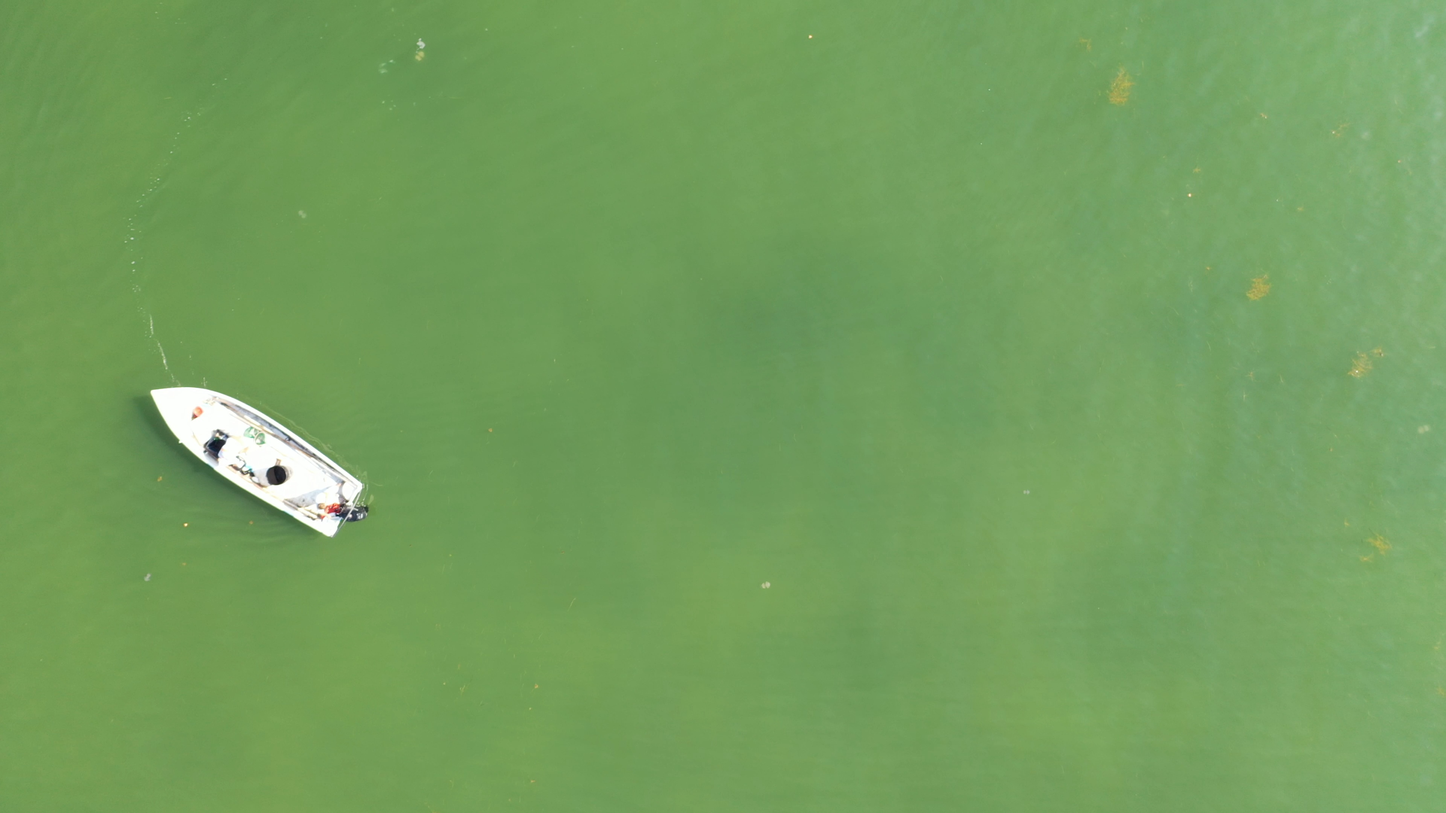meduse: (413, 51, 425, 62), (1417, 425, 1428, 434), (762, 581, 771, 590), (144, 573, 152, 582), (298, 210, 306, 218), (1024, 488, 1030, 495)
